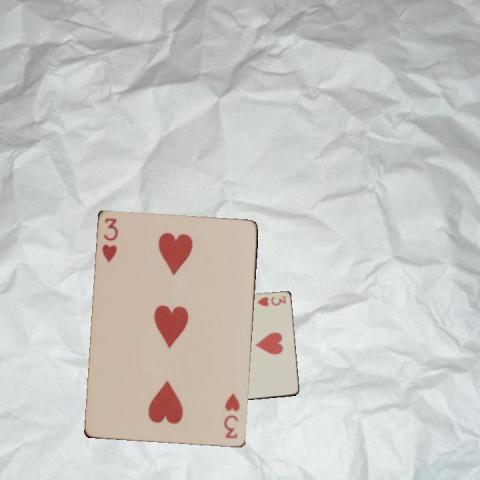3h: (99, 215, 119, 265), (222, 391, 242, 440), (254, 293, 287, 308)
